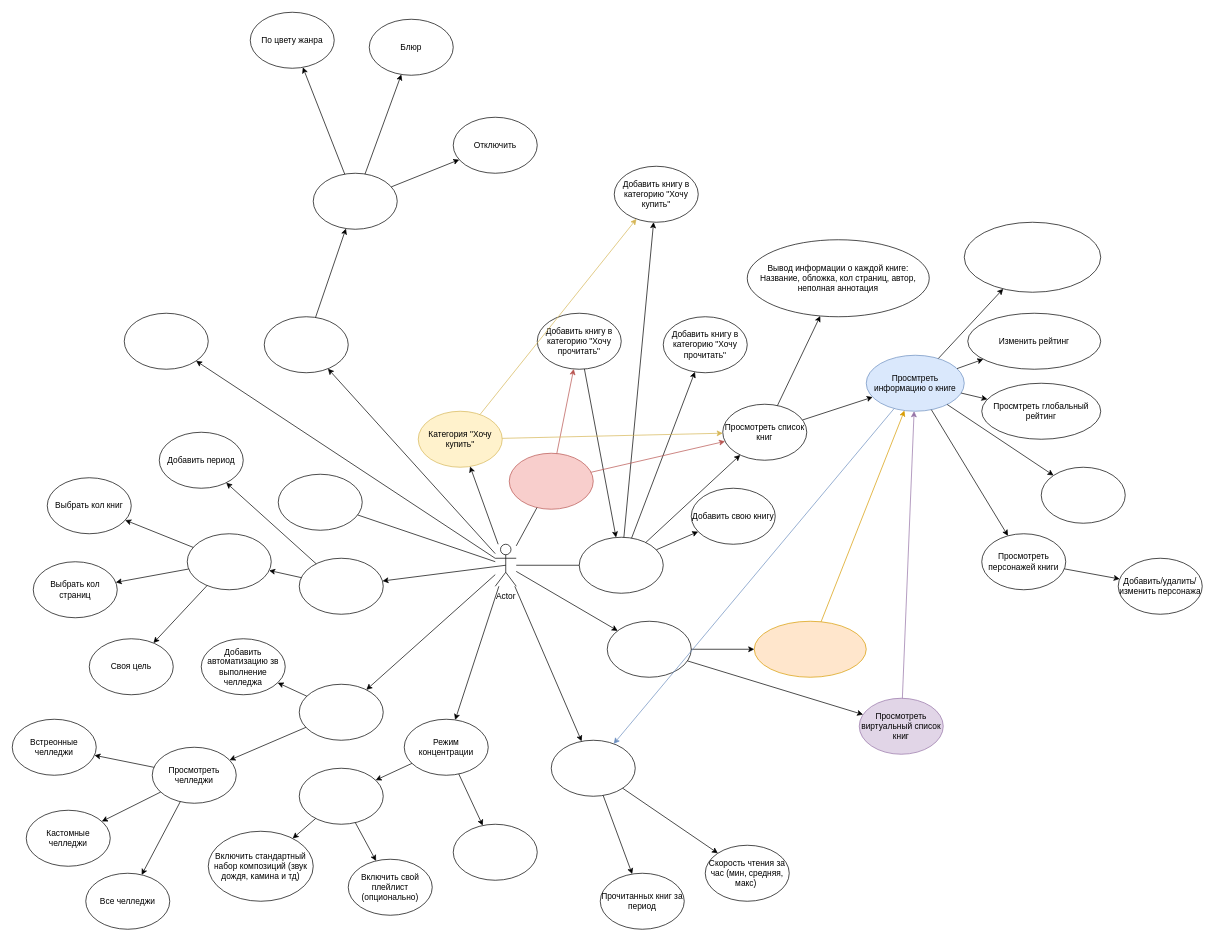
This 1215x942 diagram has some shape labels left out. The shapes that lost their labels are listed below. From the top down, each one's box as (x1, y1, x2, y2) in pixels, then its label:
(313, 173, 397, 229): Задний фон для книги
(964, 222, 1101, 292): Метаданные: обложка, автор, название, аннотация, год, издательство, рейтинг
(124, 313, 208, 369): Старт/стоп чтения книги
(264, 316, 348, 373): Зайти в настройки
(509, 453, 593, 509): Категория "Хочу прочитать"
(1041, 467, 1125, 523): PDF версия
(278, 474, 362, 530): Выбор разных тем приложения
(187, 533, 271, 590): Тип цели
(579, 537, 663, 593): Поиск книги
(299, 558, 383, 614): Добавить цель на определённый период
(607, 621, 691, 677): Просмотреть прочитанные книги
(754, 621, 866, 677): Просмтреть Виртуальный стеллаж прочитанных книг
(299, 684, 383, 740): Челленджи
(551, 740, 635, 796): Просмотреть статистику
(299, 768, 383, 824): Включить фоновую музыку
(453, 824, 537, 880): Выключить уведомления (поставить небеспокоить)
